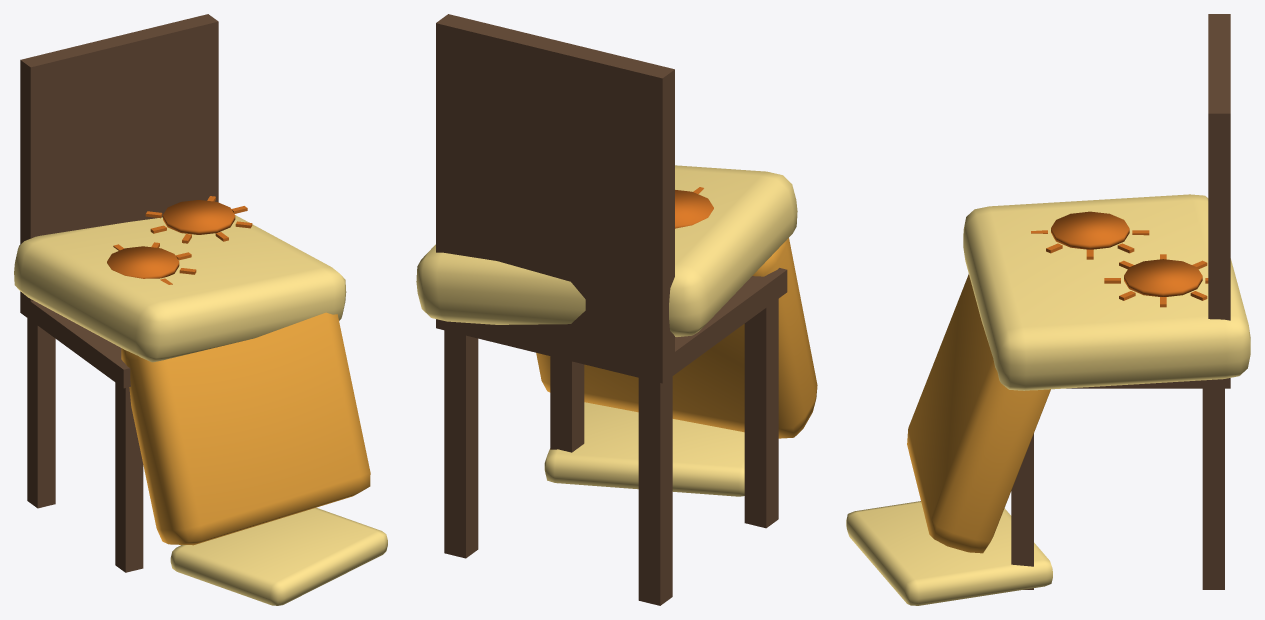
The model's file is festival_cloth.glb.
The picture shows the model from 3 angles, left to right: view 1: azimuth 30°, elevation 25°; view 2: azimuth 150°, elevation 25°; view 3: azimuth 270°, elevation 25°; orthographic projection. The views are drawn at different scales.
Parts seen in each view (by area): view 1: festival_cloth; view 2: festival_cloth; view 3: festival_cloth.
Boxes of the visible parts, box(x1,y1,x2,y2) form: festival_cloth: box(14, 14, 387, 605); festival_cloth: box(416, 14, 817, 605); festival_cloth: box(846, 14, 1250, 605).
Size of the model in its own units: 0.5447 by 0.94 by 0.7195.
